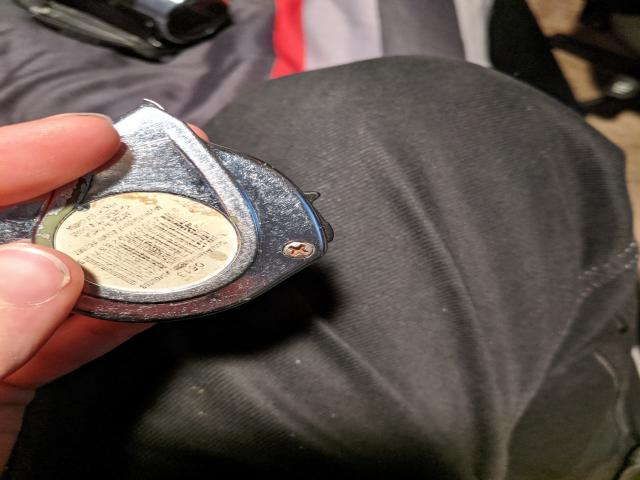CRS: (282, 240, 315, 257)
